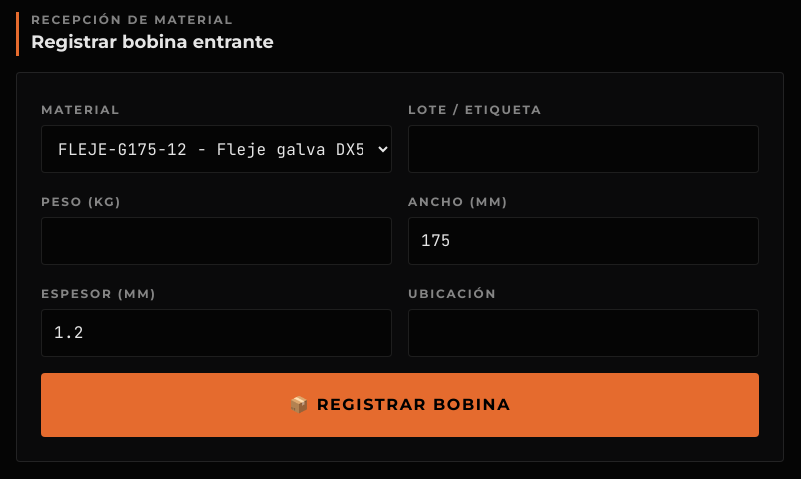
Scenario: Formulario de recepción (Fase 0 UX) › al cambiar de material se actualizan ancho y espesor
Expected: the number field labelled "Ancho (mm)" holds "175", [408,217,759,265]
Select "D310-15 - Fleje decapado DC01 310x1,5" in the dropdown labelled "Material" at (216,149), box [41,125,392,173]
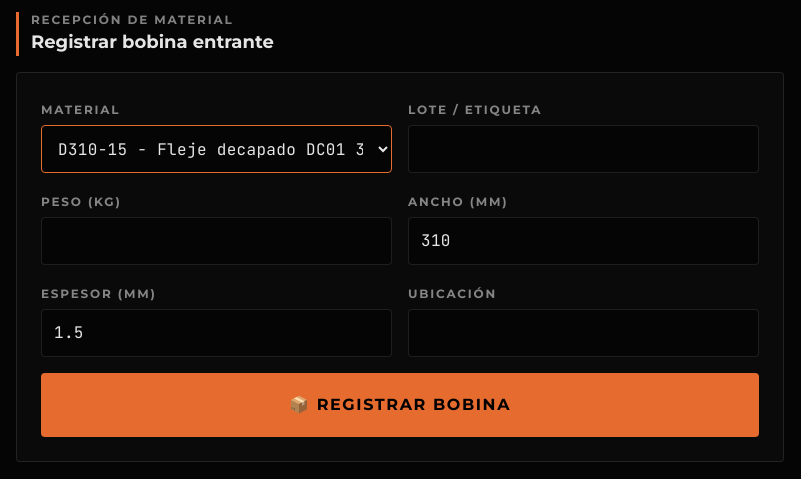
Now the number field labelled "Ancho (mm)" holds "310", box [408,217,759,265]
Now the number field labelled "Espesor (mm)" holds "1.5", box [41,309,392,357]
